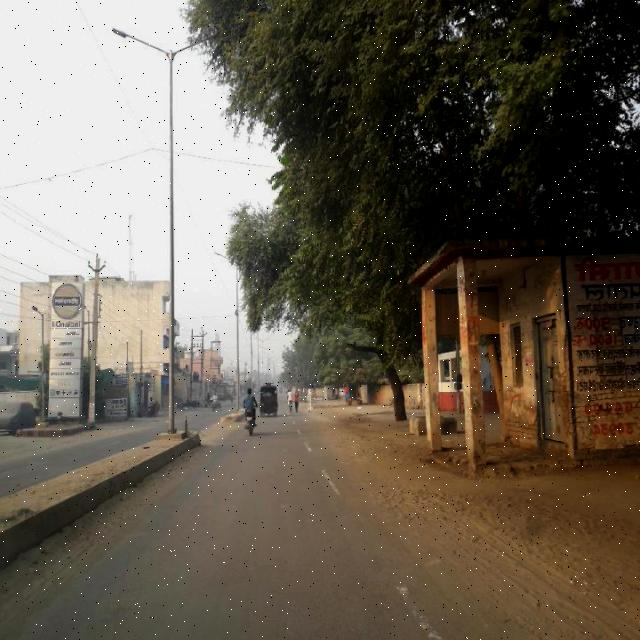D44: (401, 582, 447, 638), (322, 466, 346, 501), (295, 423, 316, 452)
